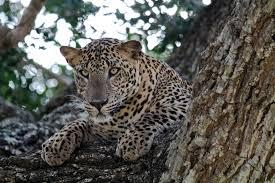Non_Gorille: (27, 24, 194, 166)
